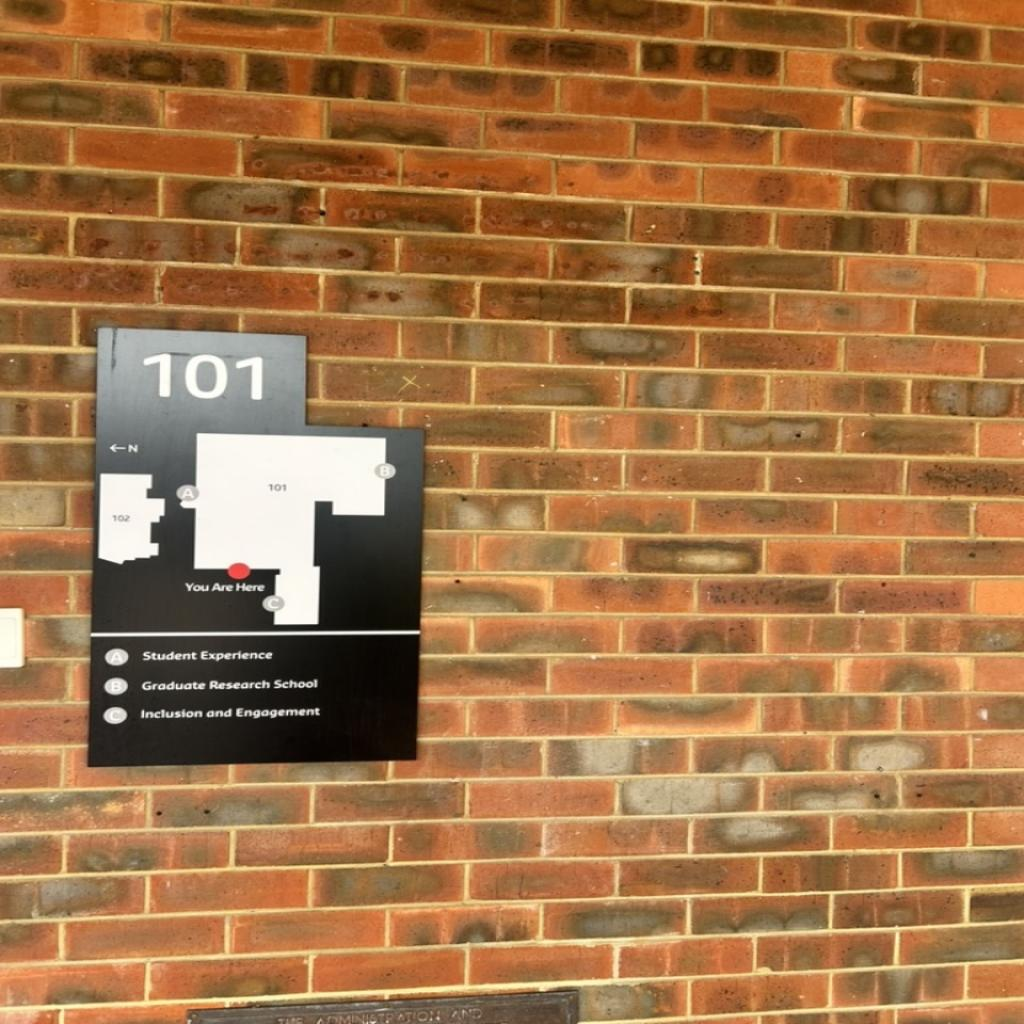BuildingCodes: (140, 350, 266, 404)
